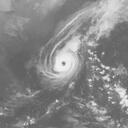cyclone: (38, 44, 81, 86)
